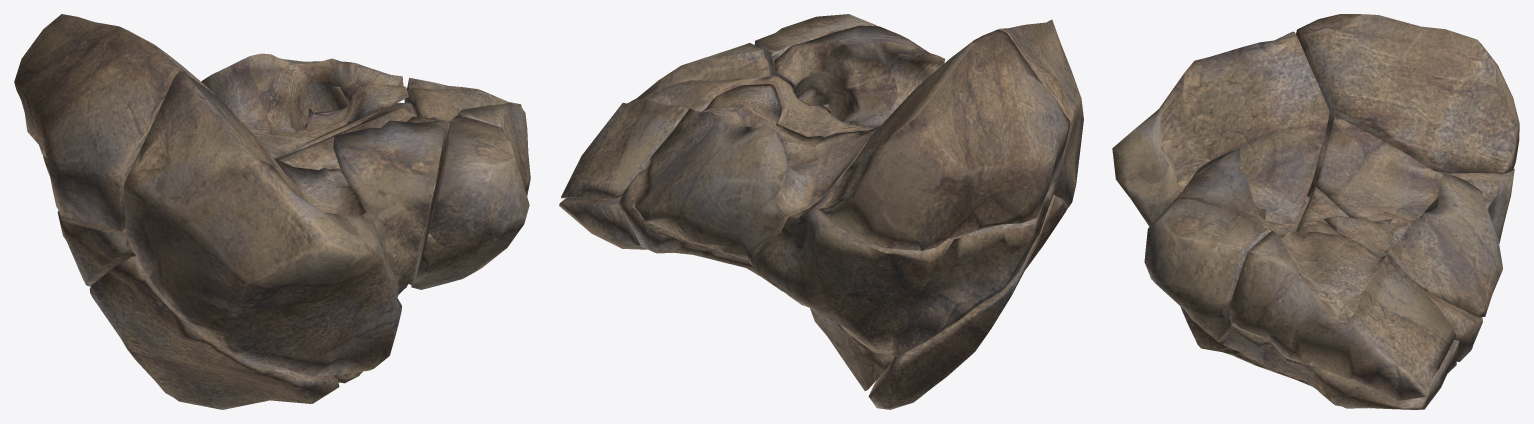
The model's file is SM_FossilNode_1_Pieces.fbx.
3 views of the same model, side by side, from view 1: azimuth 30°, elevation 25°; view 2: azimuth 150°, elevation 25°; view 3: azimuth 270°, elevation 25° (orthographic). The views are drawn at different scales.
Parts seen in each view (by area): view 1: SM_FossilNode_1_Pieces_4, SM_FossilNode_1_Pieces_1, SM_FossilNode_1_Pieces_2, SM_FossilNode_1_Pieces_9, SM_FossilNode_1_Pieces_7, SM_FossilNode_1_Pieces_11, SM_FossilNode_1_Pieces_3, SM_FossilNode_1_Pieces_8; view 2: SM_FossilNode_1_Pieces_1, SM_FossilNode_1_Pieces_7, SM_FossilNode_1_Pieces_3, SM_FossilNode_1_Pieces_4, SM_FossilNode_1_Pieces_11, SM_FossilNode_1_Pieces_2, SM_FossilNode_1_Pieces_8, SM_FossilNode_1_Pieces_10, SM_FossilNode_1_Pieces_9, SM_FossilNode_1_Pieces_5; view 3: SM_FossilNode_1_Pieces_4, SM_FossilNode_1_Pieces_11, SM_FossilNode_1_Pieces_1, SM_FossilNode_1_Pieces_7, SM_FossilNode_1_Pieces_9, SM_FossilNode_1_Pieces_10, SM_FossilNode_1_Pieces_8, SM_FossilNode_1_Pieces_3.
Boxes of the visible parts, box(x1,y1,x2,y2) form: SM_FossilNode_1_Pieces_4: box(124, 71, 445, 376); SM_FossilNode_1_Pieces_1: box(14, 14, 215, 231); SM_FossilNode_1_Pieces_2: box(89, 256, 339, 409); SM_FossilNode_1_Pieces_9: box(411, 116, 529, 289); SM_FossilNode_1_Pieces_7: box(201, 53, 408, 158); SM_FossilNode_1_Pieces_11: box(404, 77, 530, 196); SM_FossilNode_1_Pieces_3: box(43, 155, 135, 286); SM_FossilNode_1_Pieces_8: box(276, 102, 416, 172); SM_FossilNode_1_Pieces_1: box(817, 29, 1070, 250); SM_FossilNode_1_Pieces_7: box(632, 84, 879, 268); SM_FossilNode_1_Pieces_3: box(755, 181, 1055, 356); SM_FossilNode_1_Pieces_4: box(774, 19, 1083, 207); SM_FossilNode_1_Pieces_11: box(561, 43, 770, 198); SM_FossilNode_1_Pieces_2: box(868, 194, 1067, 409); SM_FossilNode_1_Pieces_8: box(618, 75, 874, 291); SM_FossilNode_1_Pieces_10: box(559, 196, 647, 249); SM_FossilNode_1_Pieces_9: box(754, 14, 877, 105); SM_FossilNode_1_Pieces_5: box(788, 295, 894, 390); SM_FossilNode_1_Pieces_4: box(1112, 31, 1329, 351); SM_FossilNode_1_Pieces_11: box(1229, 231, 1456, 400); SM_FossilNode_1_Pieces_1: box(1296, 14, 1519, 174); SM_FossilNode_1_Pieces_7: box(1316, 116, 1502, 317); SM_FossilNode_1_Pieces_9: box(1144, 199, 1270, 342); SM_FossilNode_1_Pieces_10: box(1223, 326, 1459, 409); SM_FossilNode_1_Pieces_8: box(1295, 180, 1482, 361); SM_FossilNode_1_Pieces_3: box(1306, 150, 1514, 243).
Size of the model in its own units: 1.22 by 0.9326 by 1.
